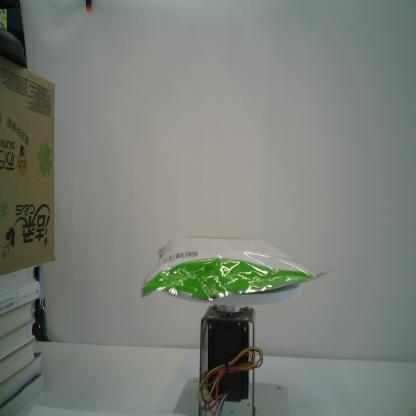Dried Food: (141, 235, 334, 302)
